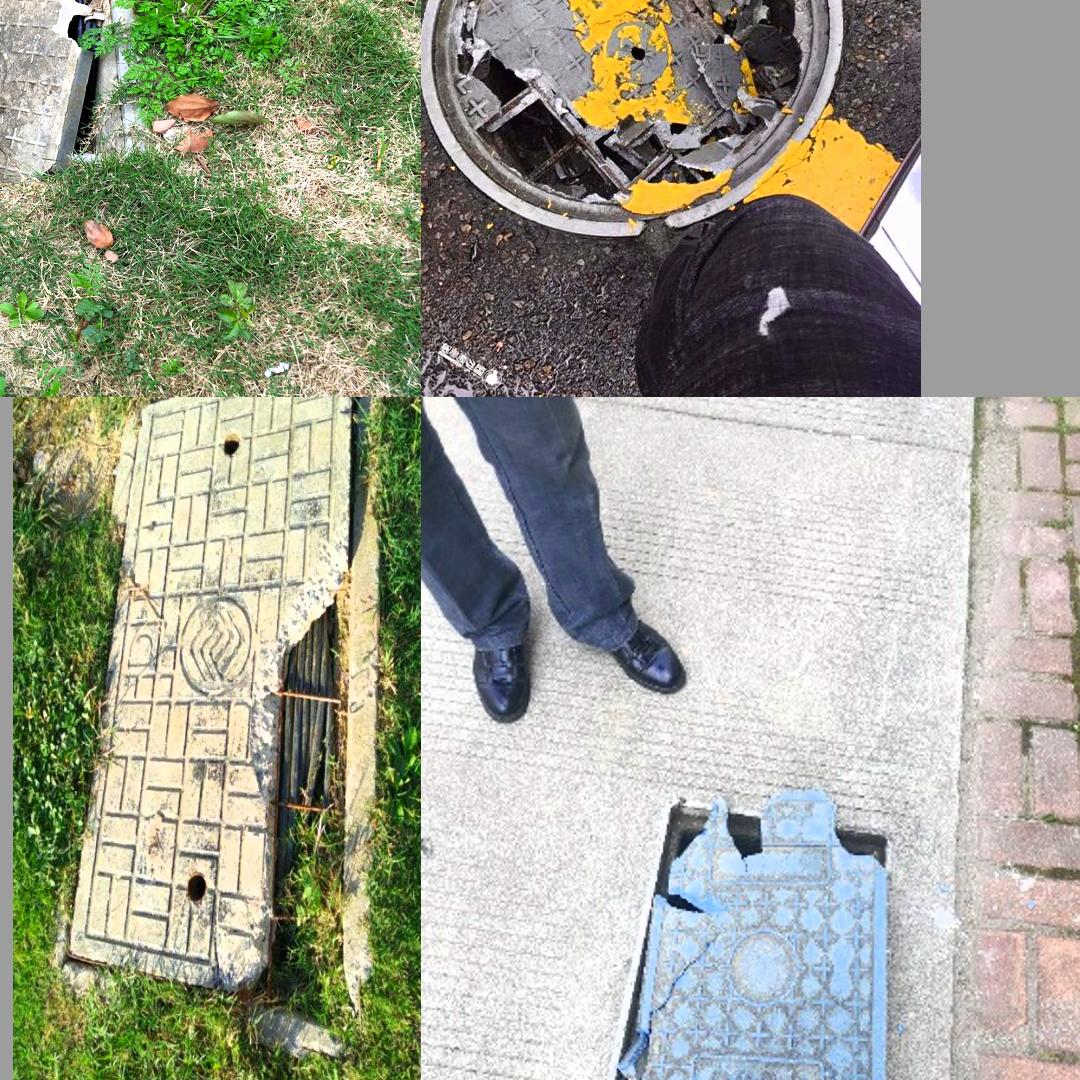broke: (48, 401, 381, 1054), (441, 0, 865, 232), (595, 789, 889, 1080), (0, 0, 160, 178)
